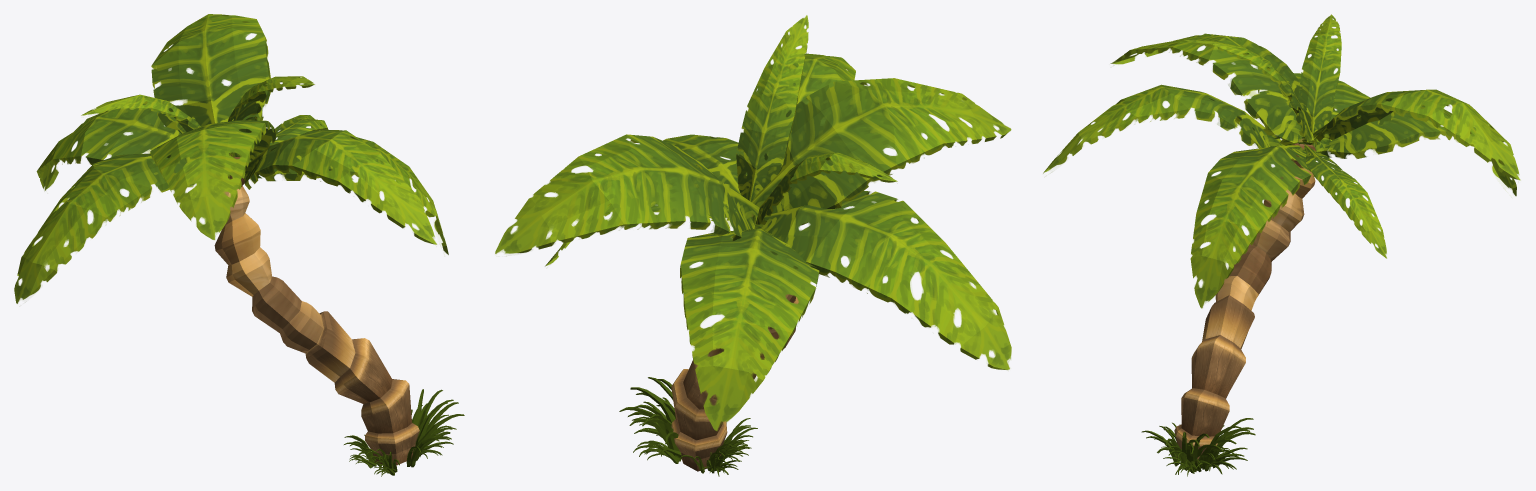
Rendered from palma.glb.
3 renders of one model, left to right at view 1: azimuth 30°, elevation 25°; view 2: azimuth 150°, elevation 25°; view 3: azimuth 270°, elevation 25°, orthographic. The views are drawn at different scales.
Visible parts, largest first — view 1: object 10, Cube.032, Cube.030, Cube.024, Cube.029, Cube.031, Cube.028, Cube.027, Cube.026, Cube.034, Cube.025; view 2: Cube.030, Cube.031, Cube.032, Cube.029, Cube.026, object 10, Cube.027, Cube.028, Cube.024, Cube.046, Cube.034, Cube.048; view 3: object 10, Cube.028, Cube.029, Cube.032, Cube.024, Cube.031, Cube.027, Cube.025, Cube.026, Cube.046, Cube.030, Cube.034.
Boxes of the visible parts, <box> form: object 10: <box>214,155,419,465</box>; Cube.032: <box>151,14,270,133</box>; Cube.030: <box>14,153,230,303</box>; Cube.024: <box>244,129,436,244</box>; Cube.029: <box>150,120,276,240</box>; Cube.031: <box>36,103,195,190</box>; Cube.028: <box>249,136,448,254</box>; Cube.027: <box>81,94,200,133</box>; Cube.026: <box>228,76,314,156</box>; Cube.034: <box>406,389,464,467</box>; Cube.025: <box>262,115,328,150</box>; Cube.030: <box>754,191,1011,370</box>; Cube.031: <box>680,228,819,430</box>; Cube.032: <box>495,134,759,253</box>; Cube.029: <box>751,78,1011,225</box>; Cube.026: <box>736,15,808,201</box>; object 10: <box>671,215,798,471</box>; Cube.027: <box>752,152,897,224</box>; Cube.028: <box>663,134,747,194</box>; Cube.024: <box>743,53,855,173</box>; Cube.046: <box>619,397,681,459</box>; Cube.034: <box>628,377,675,426</box>; Cube.048: <box>680,439,749,473</box>; object 10: <box>1174,138,1316,461</box>; Cube.028: <box>1190,145,1315,308</box>; Cube.029: <box>1110,33,1314,145</box>; Cube.032: <box>1313,89,1520,180</box>; Cube.024: <box>1043,84,1284,173</box>; Cube.031: <box>1323,106,1516,196</box>; Cube.027: <box>1298,14,1341,147</box>; Cube.025: <box>1304,144,1386,258</box>; Cube.026: <box>1184,39,1314,144</box>; Cube.046: <box>1168,418,1255,473</box>; Cube.030: <box>1258,73,1370,153</box>; Cube.034: <box>1141,430,1223,470</box>.
Size of the model in its own units: 91 by 91.63 by 103.
3 materials, 2 textured.
